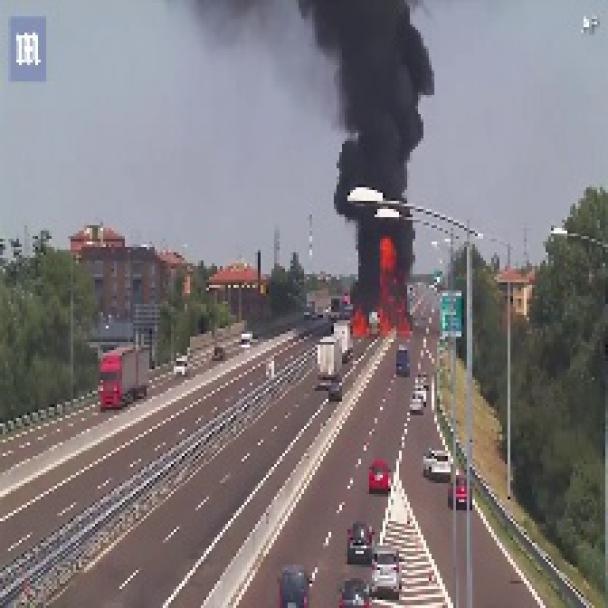Fire: (319, 208, 451, 368)
smoke: (196, 0, 496, 190)
